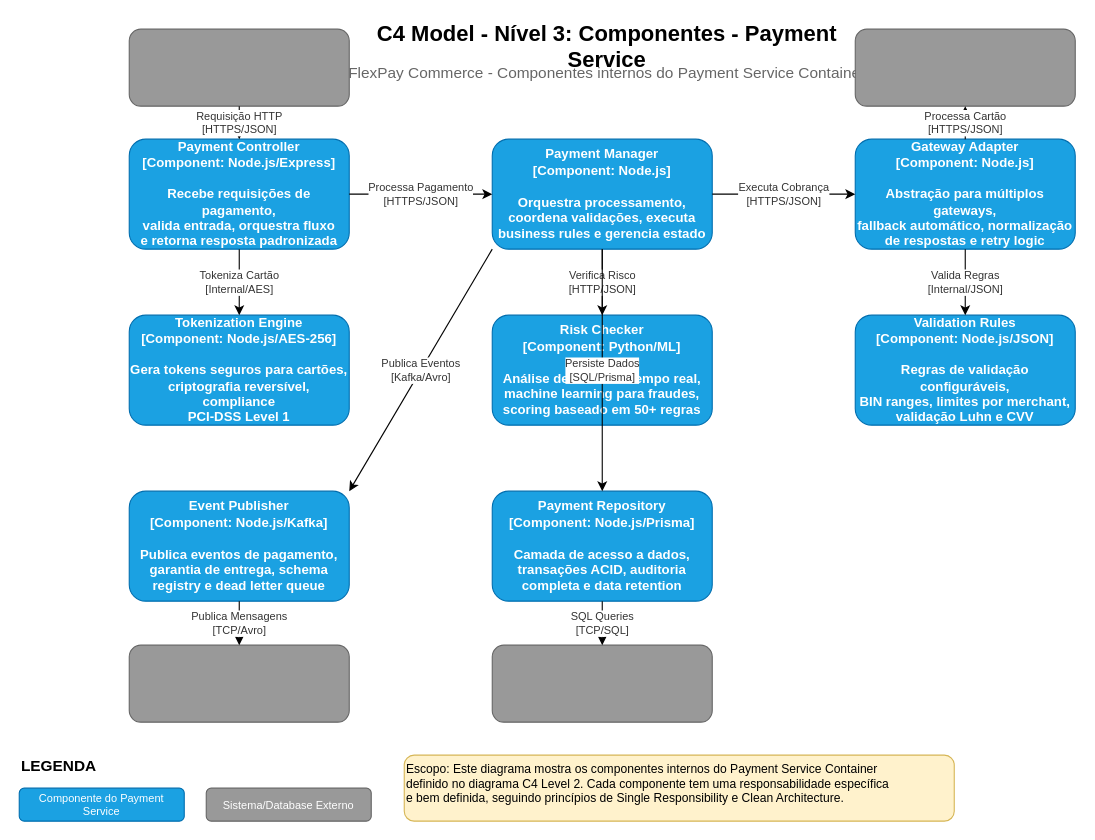
Some shapes in this 1095 by 840 pixel diagram are drawn without their labels. The shapes that lost their labels are listed below. From the top down, each one's centre as x and y in pixels, then its label:
pixel 238 67: API Gateway [Sistema Externo: Kong] Rate limiting, autenticação, load balancing
pixel 964 67: Akua.la Gateway [Sistema Externo] Processamento de cartões
pixel 238 683: Apache Kafka [Message Broker] Event streaming
pixel 601 683: PostgreSQL [Database] Transações, merchants, logs
